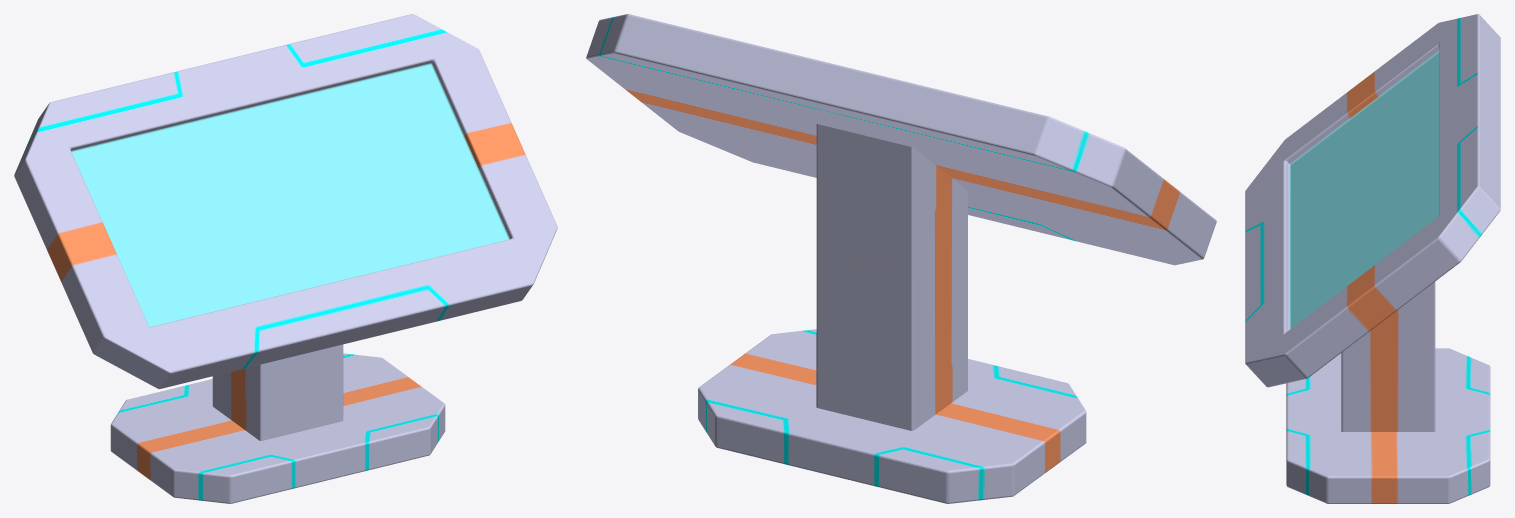
The model's file is Console_Model2.gltf.
The picture shows the model from 3 angles, left to right: view 1: azimuth 30°, elevation 25°; view 2: azimuth 150°, elevation 25°; view 3: azimuth 270°, elevation 25°; orthographic projection. The views are drawn at different scales.
Parts seen in each view (by area): view 1: Console2; view 2: Console2; view 3: Console2.
Part boxes in pixels (box(x1,y1,x2,y2)): Console2: box(14, 14, 557, 503); Console2: box(586, 14, 1216, 503); Console2: box(1245, 14, 1500, 503).
Bounding box in the file's own units: 5 × 3.68 × 2.51.
Materials: 1 (1 with a texture image).
